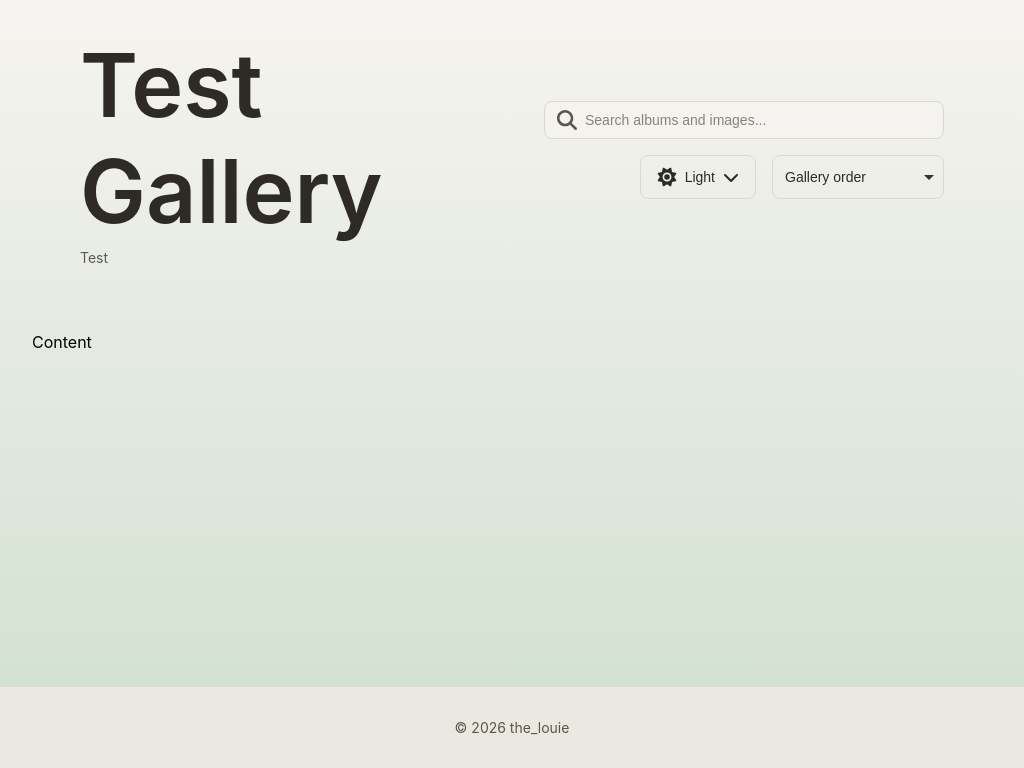
Scenario: Layout Theme Dropdown › theme dropdown allows selecting themes
// Open dropdown
Click the button with aria-label "theme". click: (698, 177)
box: [640, 155, 756, 199]
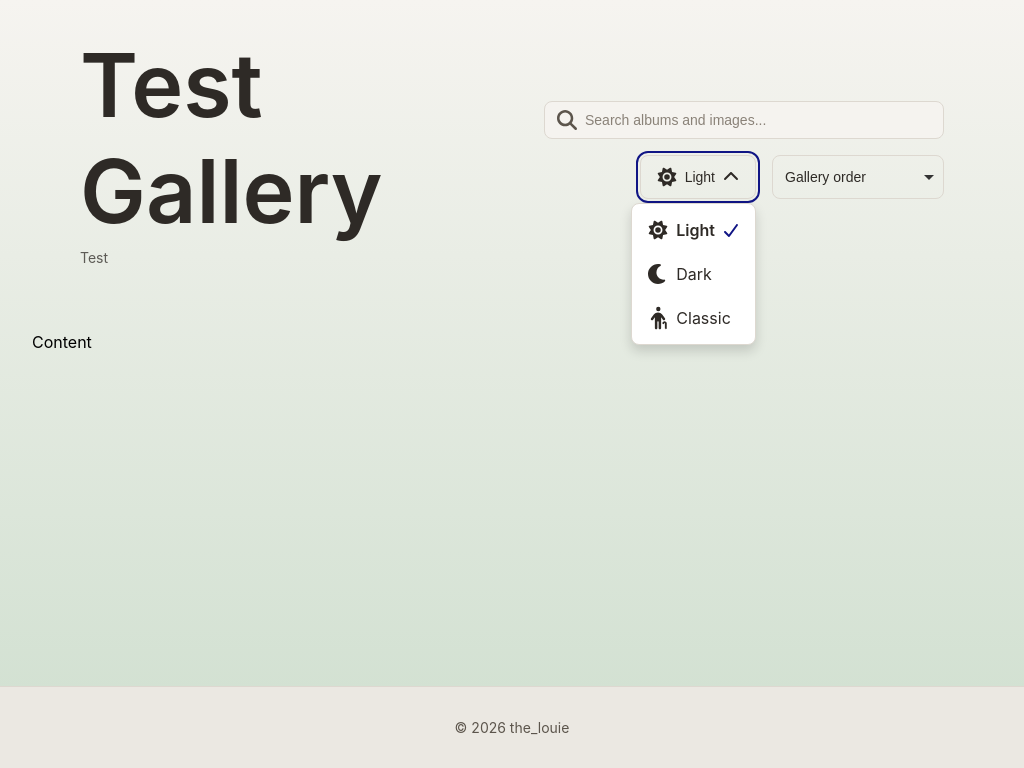
expect the list is shown: met, box [631, 203, 756, 345]
// Select dark theme
Click the option "Dark". click: (680, 274)
box: [648, 264, 712, 284]
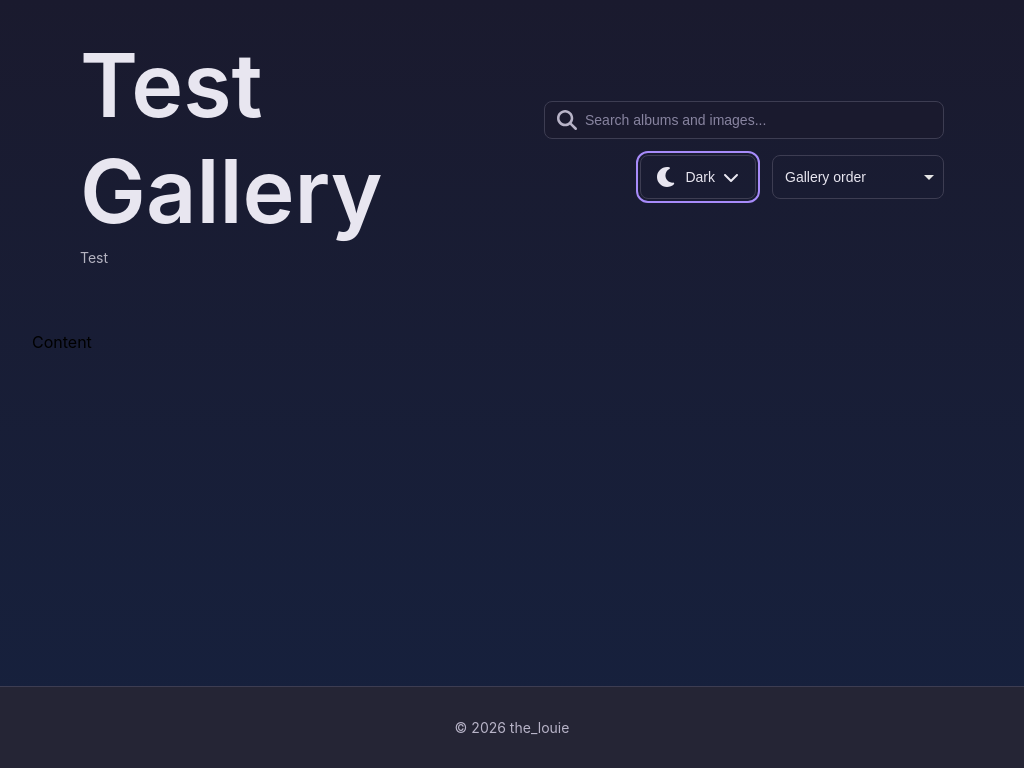
expect the button with aria-label "theme" reads "Dark": met, box [640, 155, 756, 199]
